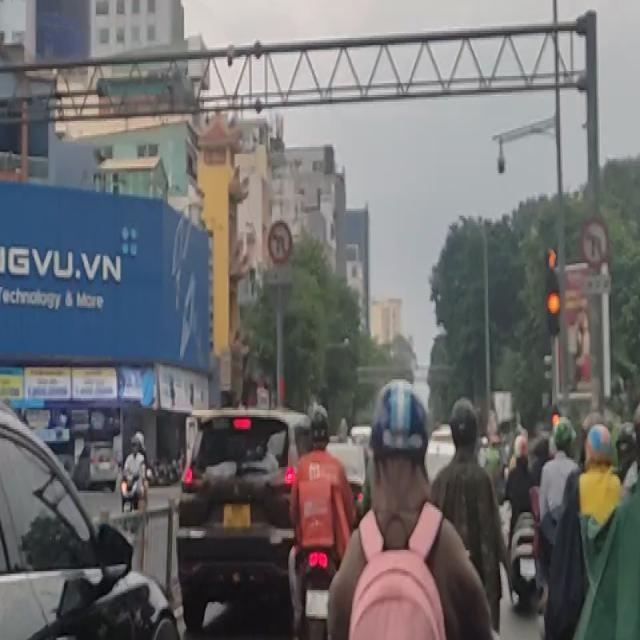Bien bao cam re trai va quay dau: (580, 212, 610, 270), (268, 214, 295, 266)
